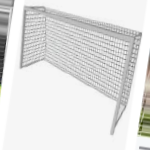goals: (19, 3, 143, 139)
